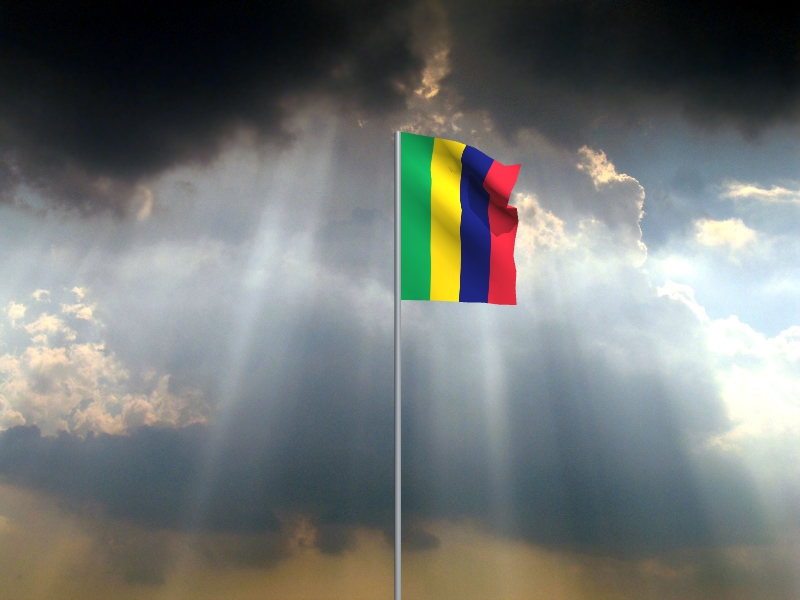mu: (401, 133, 522, 306)
